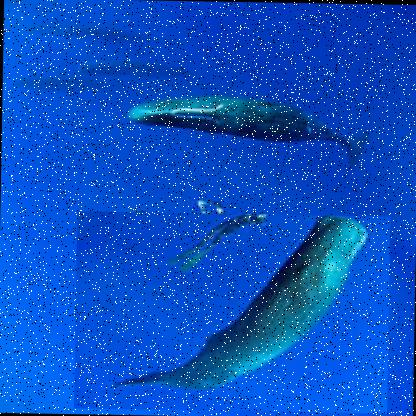sperm_whale: (74, 209, 390, 412), (114, 83, 416, 158)
